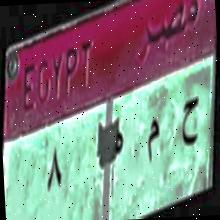7aa: (174, 84, 206, 160)
8: (44, 142, 64, 194)
haa: (112, 122, 127, 158)
meem: (138, 110, 164, 170)
